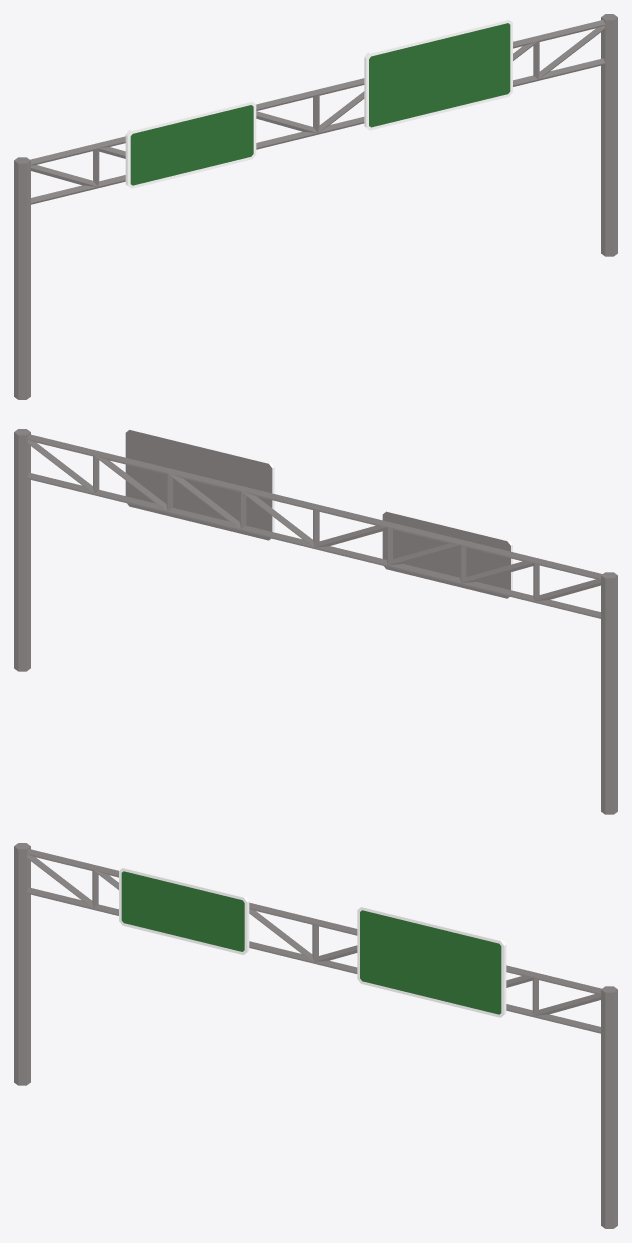
Rendered from mainroad-sign-green.glb.
3 renders of one model, top to bottom at view 1: azimuth 30°, elevation 25°; view 2: azimuth 150°, elevation 25°; view 3: azimuth 330°, elevation 25°, orthographic.
Visible parts, largest first — view 1: mainroad-sign-green; view 2: mainroad-sign-green; view 3: mainroad-sign-green.
Boxes of the visible parts, x1,y1,x2,y2 form: mainroad-sign-green: (14,14,617,399); mainroad-sign-green: (14,428,617,814); mainroad-sign-green: (14,843,617,1228).
Size of the model in its own units: 16.35 by 6.83 by 0.4106.
1 material, 1 textured.
